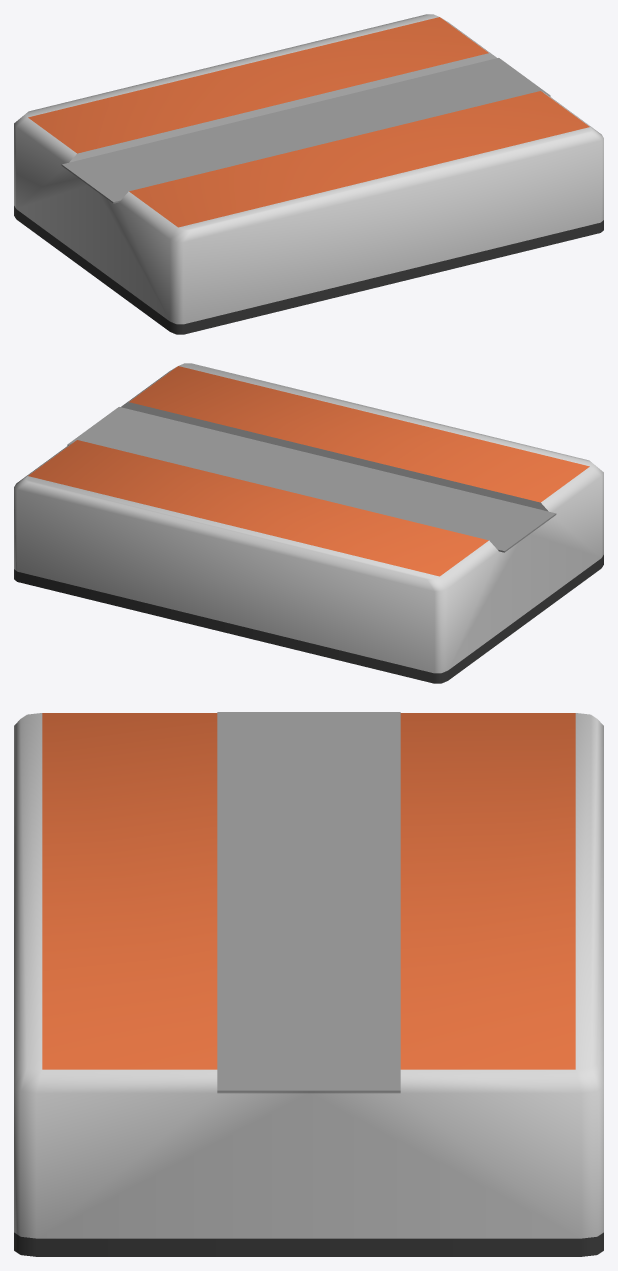
The model's file is Machine.fbx.
3 views of the same model, one above another, from view 1: azimuth 30°, elevation 25°; view 2: azimuth 150°, elevation 25°; view 3: azimuth 270°, elevation 25° (orthographic). The views are drawn at different scales.
Visible parts, largest first — view 1: Machine; view 2: Machine; view 3: Machine.
Part boxes in pixels (box(x1,y1,x2,y2)): Machine: box(14, 14, 603, 334); Machine: box(14, 363, 603, 683); Machine: box(14, 712, 603, 1256).
Bounding box in the file's own units: 1993 × 439 × 1313.
